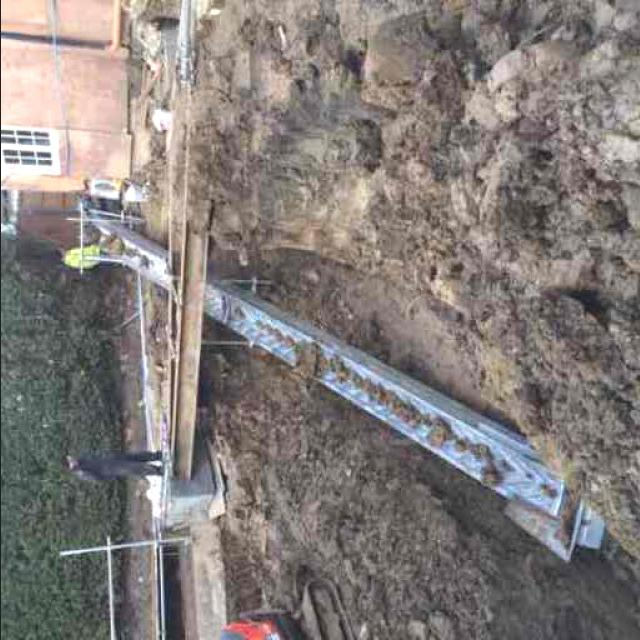conveyor: (123, 236, 565, 528)
